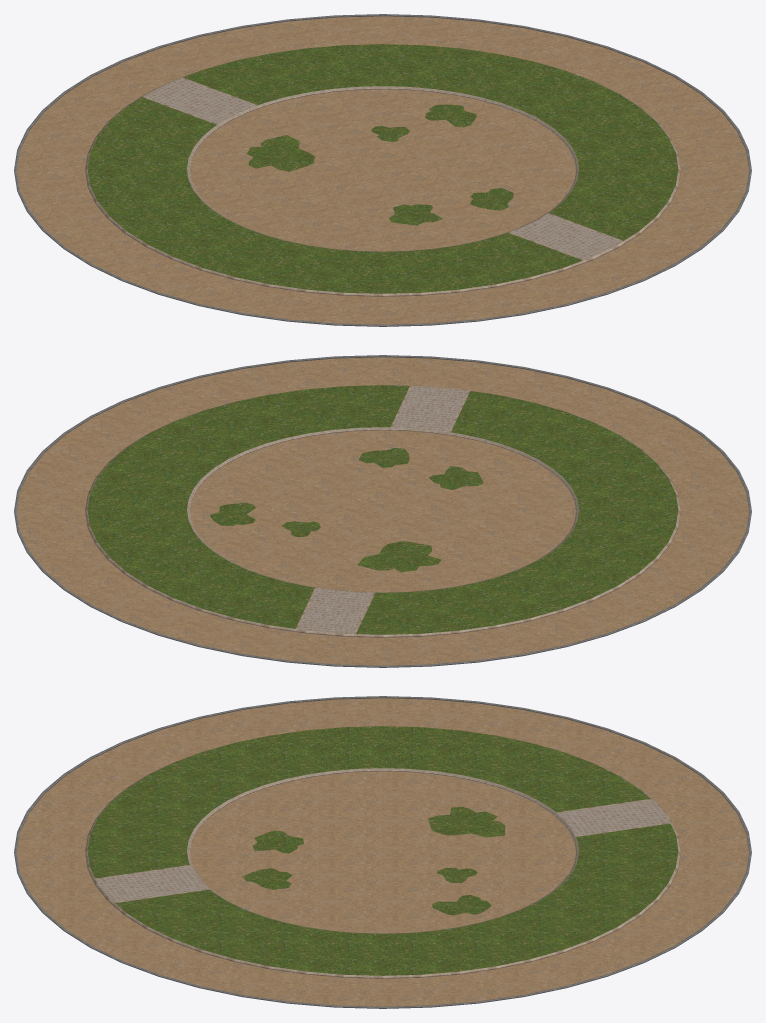
Rendered from t1_g14_1_jaune_square02.glb.
3 views of the same model, one above another, from view 1: azimuth 30°, elevation 25°; view 2: azimuth 150°, elevation 25°; view 3: azimuth 270°, elevation 25° (orthographic).
Visible parts, largest first — view 1: um_t1_g14_1_jaune_square02_model_t1_g14_1_jaune_square02_mod; view 2: um_t1_g14_1_jaune_square02_model_t1_g14_1_jaune_square02_mod; view 3: um_t1_g14_1_jaune_square02_model_t1_g14_1_jaune_square02_mod.
Boxes of the visible parts, left/top/right/bottom form: um_t1_g14_1_jaune_square02_model_t1_g14_1_jaune_square02_mod: left=14, top=14, right=751, bottom=326; um_t1_g14_1_jaune_square02_model_t1_g14_1_jaune_square02_mod: left=14, top=355, right=751, bottom=667; um_t1_g14_1_jaune_square02_model_t1_g14_1_jaune_square02_mod: left=14, top=696, right=751, bottom=1008.
Bounding box in the file's own units: 81.06 × 0.245 × 81.06.
7 materials, 7 textured.
